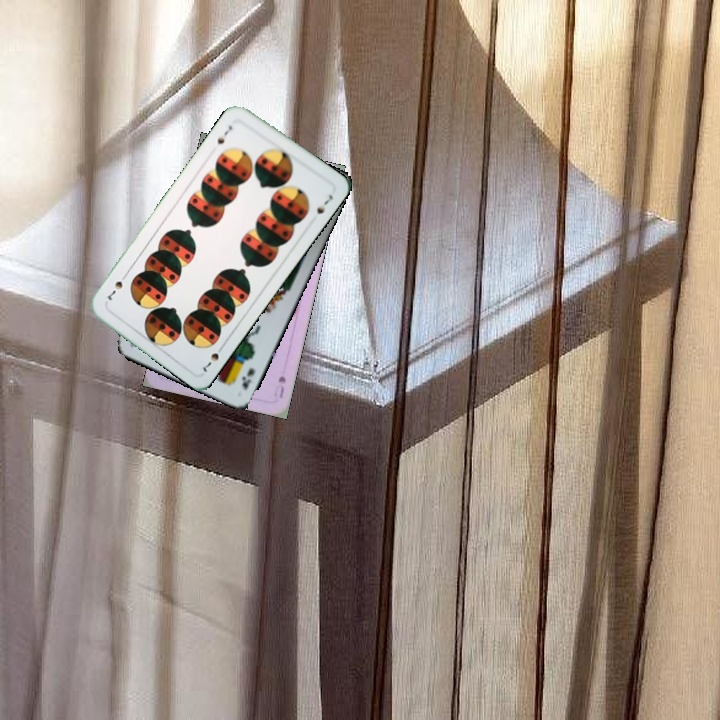EK: (238, 363, 258, 393)
S7: (199, 340, 227, 374), (213, 121, 235, 147)
SU: (270, 372, 288, 401)
